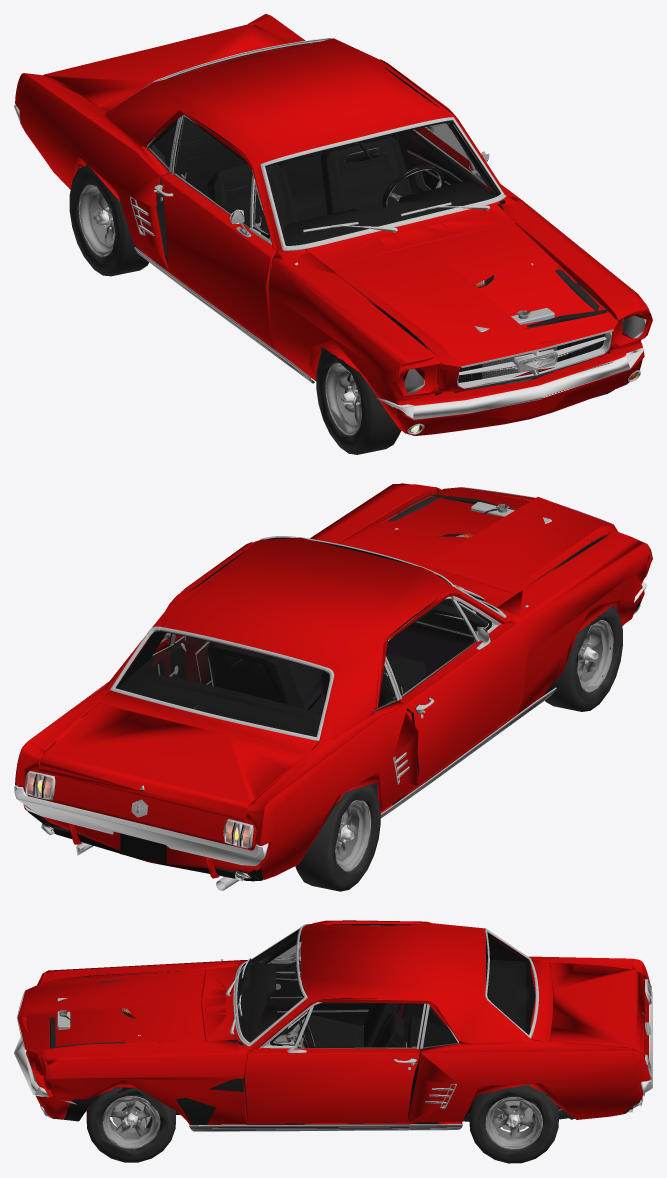
File: mustang.glb
3 renders of one model, top to bottom at view 1: azimuth 30°, elevation 25°; view 2: azimuth 150°, elevation 25°; view 3: azimuth 270°, elevation 25°, orthographic. The views are drawn at different scales.
Parts seen in each view (by area): view 1: _M_Carpaint_Maxgroup1__phong1SG1_0, _group1M_Glass_WindowRear_Max1__phong5SG1_0, _group1M_Interior_Max__phong17SG1_0, polySurface1_W:Ford_Mustang302LP_1970_Wheel6A_3D_3DWheel6A_M, _group1M_Opaque_PlasticRoughBlack_Max1__phong9SG1_0, _group1M_CarPaint_Trim_Chrome_Max.001__phong2SG1_0, _group1M_Opaque_ChromeSmooth_Max__phong8SG1_0, _group1M_Opaque_ChromeRough_Max__phong7SG1_0, _group1M_Chassis_Max__phong4SG1_0, _group1M_Engine_Max.004__phong6SG1_0, _group1M_LightGlass_Clear_Max__phong11SG1_0, _group1M_GrilleB_Max__phong15SG1_0; view 2: _M_Carpaint_Maxgroup1__phong1SG1_0, _group1M_Glass_WindowRear_Max1__phong5SG1_0, _group1M_Interior_Max__phong17SG1_0, polySurface1_W:Ford_Mustang302LP_1970_Wheel6A_3D_3DWheel6A_M, _group1M_Opaque_PlasticRoughBlack_Max1__phong9SG1_0, _group1M_CarPaint_Trim_Chrome_Max.001__phong2SG1_0, _group1M_Opaque_ChromeSmooth_Max__phong8SG1_0, _group1M_Opaque_ChromeRough_Max__phong7SG1_0, _group1M_LicensePlate_Max__phong16SG1_0, _group1M_Engine_Max.004__phong6SG1_0, _group1M_Chassis_Max__phong4SG1_0, _group1M_Light_Max1__phong14SG1_0 (+1 smaller); view 3: _M_Carpaint_Maxgroup1__phong1SG1_0, _group1M_Interior_Max__phong17SG1_0, _group1M_Glass_WindowRear_Max1__phong5SG1_0, polySurface1_W:Ford_Mustang302LP_1970_Wheel6A_3D_3DWheel6A_M, _group1M_Opaque_PlasticRoughBlack_Max1__phong9SG1_0, _group1M_Opaque_ChromeSmooth_Max__phong8SG1_0, _group1M_Chassis_Max__phong4SG1_0, _group1M_CarPaint_Trim_Chrome_Max.001__phong2SG1_0, _group1M_Engine_Max.004__phong6SG1_0.
Part boxes in pixels (bbox=[...]): _M_Carpaint_Maxgroup1__phong1SG1_0: bbox=[15, 14, 652, 435]; _group1M_Glass_WindowRear_Max1__phong5SG1_0: bbox=[147, 44, 498, 245]; _group1M_Interior_Max__phong17SG1_0: bbox=[148, 116, 499, 296]; polySurface1_W:Ford_Mustang302LP_1970_Wheel6A_3D_3DWheel6A_M: bbox=[69, 164, 613, 454]; _group1M_Opaque_PlasticRoughBlack_Max1__phong9SG1_0: bbox=[110, 38, 639, 342]; _group1M_CarPaint_Trim_Chrome_Max.001__phong2SG1_0: bbox=[14, 105, 644, 419]; _group1M_Opaque_ChromeSmooth_Max__phong8SG1_0: bbox=[129, 153, 646, 434]; _group1M_Opaque_ChromeRough_Max__phong7SG1_0: bbox=[435, 331, 611, 395]; _group1M_Chassis_Max__phong4SG1_0: bbox=[78, 140, 616, 392]; _group1M_Engine_Max.004__phong6SG1_0: bbox=[416, 238, 599, 391]; _group1M_LightGlass_Clear_Max__phong11SG1_0: bbox=[403, 314, 645, 392]; _group1M_GrilleB_Max__phong15SG1_0: bbox=[458, 334, 603, 382]; _M_Carpaint_Maxgroup1__phong1SG1_0: bbox=[15, 483, 652, 879]; _group1M_Glass_WindowRear_Max1__phong5SG1_0: bbox=[116, 599, 489, 736]; _group1M_Interior_Max__phong17SG1_0: bbox=[116, 599, 487, 795]; polySurface1_W:Ford_Mustang302LP_1970_Wheel6A_3D_3DWheel6A_M: bbox=[295, 604, 622, 891]; _group1M_Opaque_PlasticRoughBlack_Max1__phong9SG1_0: bbox=[110, 536, 506, 863]; _group1M_CarPaint_Trim_Chrome_Max.001__phong2SG1_0: bbox=[14, 582, 646, 865]; _group1M_Opaque_ChromeSmooth_Max__phong8SG1_0: bbox=[25, 487, 649, 890]; _group1M_Opaque_ChromeRough_Max__phong7SG1_0: bbox=[28, 811, 263, 881]; _group1M_LicensePlate_Max__phong16SG1_0: bbox=[120, 833, 166, 864]; _group1M_Engine_Max.004__phong6SG1_0: bbox=[349, 497, 593, 611]; _group1M_Chassis_Max__phong4SG1_0: bbox=[53, 493, 611, 880]; _group1M_Light_Max1__phong14SG1_0: bbox=[27, 773, 250, 846]; _M_Carpaint_Maxgroup1__phong1SG1_0: bbox=[17, 920, 650, 1125]; _group1M_Interior_Max__phong17SG1_0: bbox=[238, 928, 535, 1122]; _group1M_Glass_WindowRear_Max1__phong5SG1_0: bbox=[238, 930, 535, 1048]; polySurface1_W:Ford_Mustang302LP_1970_Wheel6A_3D_3DWheel6A_M: bbox=[86, 987, 558, 1163]; _group1M_Opaque_PlasticRoughBlack_Max1__phong9SG1_0: bbox=[53, 924, 538, 1125]; _group1M_Opaque_ChromeSmooth_Max__phong8SG1_0: bbox=[17, 944, 652, 1131]; _group1M_Chassis_Max__phong4SG1_0: bbox=[50, 963, 633, 1124]; _group1M_CarPaint_Trim_Chrome_Max.001__phong2SG1_0: bbox=[14, 991, 652, 1104]; _group1M_Engine_Max.004__phong6SG1_0: bbox=[48, 978, 140, 1047].
Size of the model in its own units: 0.0176 by 0.013 by 0.0459.
Materials: 22 (11 with a texture image).
